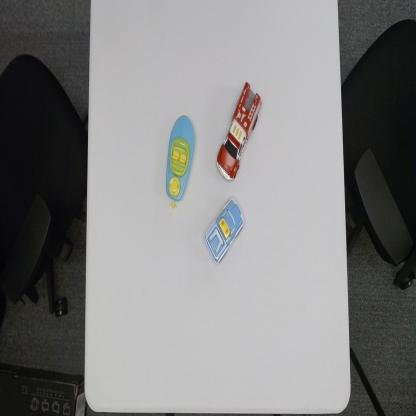Boat: (165, 113, 197, 210)
Car: (205, 195, 246, 265)
Firetruck: (216, 80, 262, 184)
